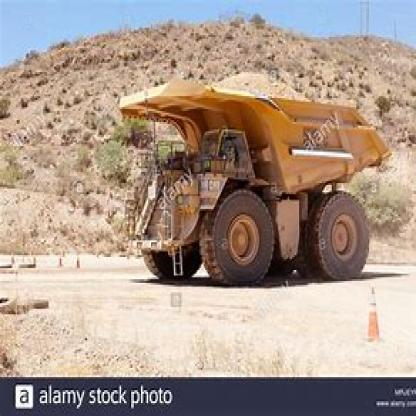dump_truck: (105, 76, 392, 279)
